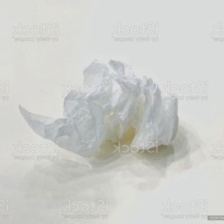tissue: (13, 52, 185, 170)
